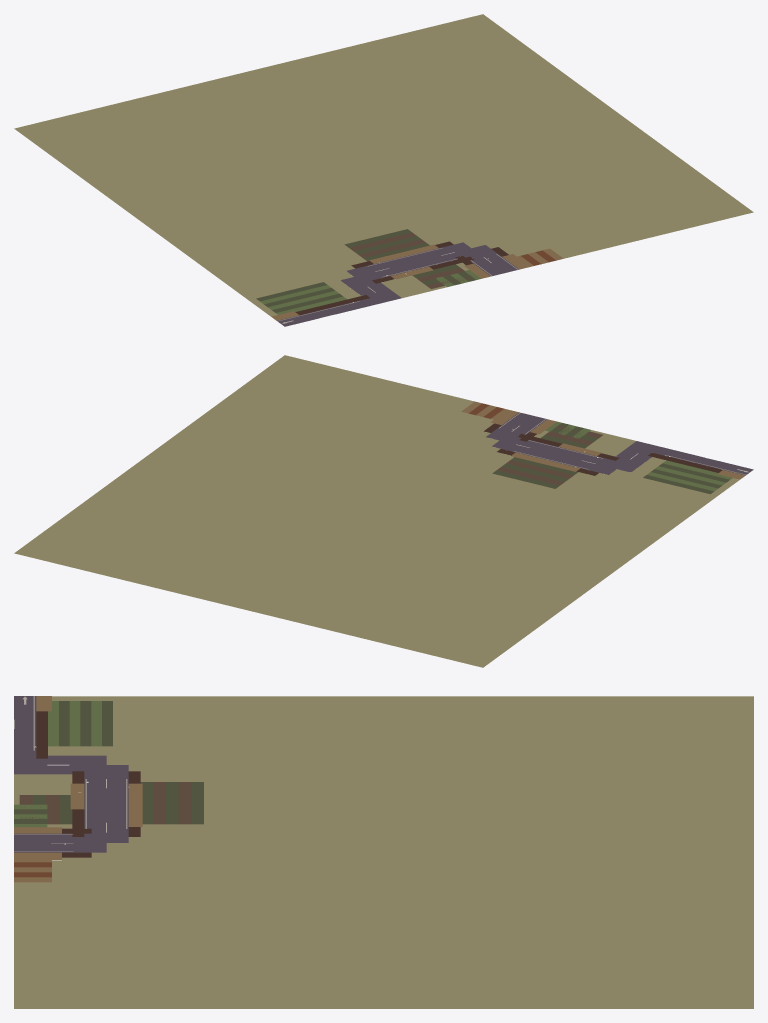
File: cure-1-1.glb
The picture shows the model from 3 angles, top to bottom: view 1: azimuth 30°, elevation 25°; view 2: azimuth 150°, elevation 25°; view 3: azimuth 270°, elevation 25°; orthographic projection. The views are drawn at different scales.
Parts seen in each view (by area): view 1: cure-1-1; view 2: cure-1-1; view 3: cure-1-1.
Part boxes in pixels (box(x1,y1,x2,y2)): cure-1-1: box(14, 14, 753, 326); cure-1-1: box(14, 355, 753, 667); cure-1-1: box(14, 696, 753, 1008).
Bounding box in the file's own units: 100 × 0.015 × 100.
